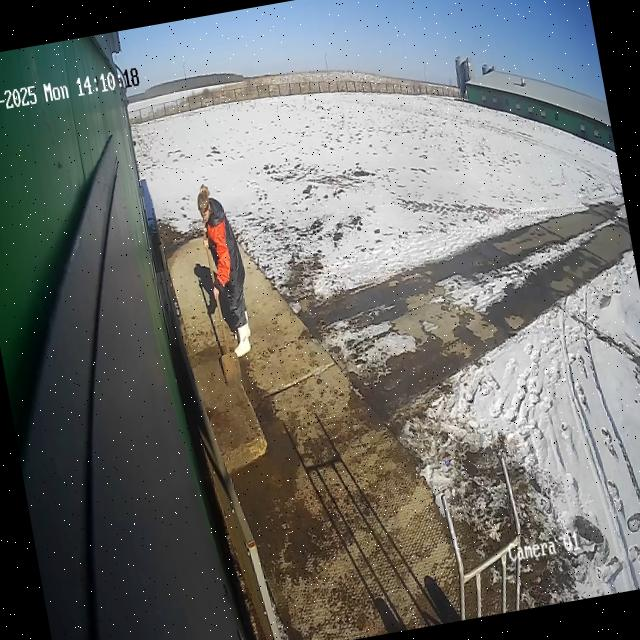Red uniform: (190, 178, 260, 362)
